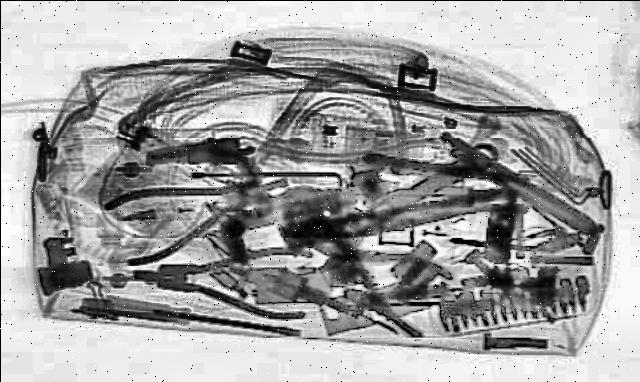Pliers: (68, 149, 320, 267), (290, 218, 500, 338), (131, 241, 317, 318)
Wrench: (284, 130, 520, 258)
